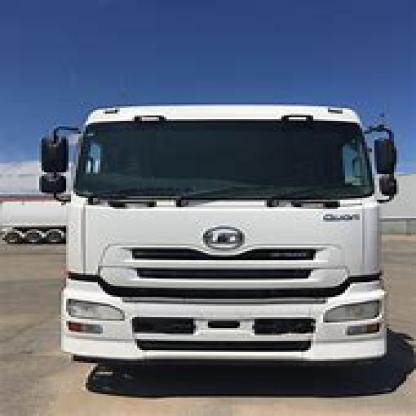dump_truck: (34, 86, 406, 378)
